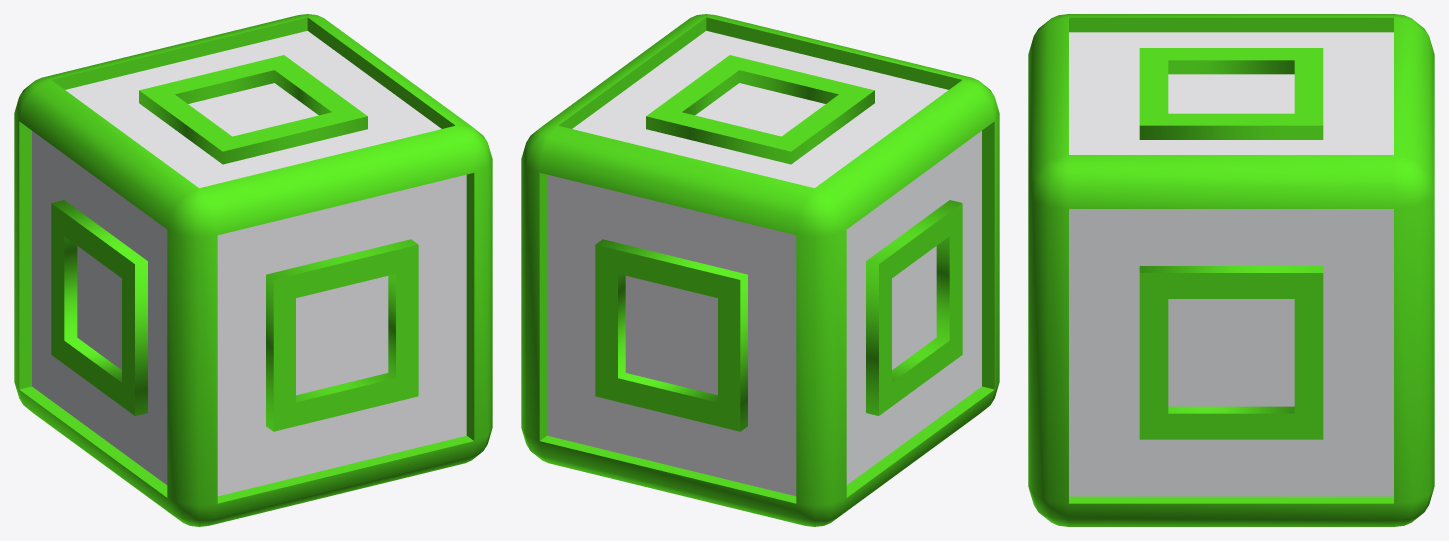
The model's file is SquareCube.fbx.
3 views of the same model, side by side, from view 1: azimuth 30°, elevation 25°; view 2: azimuth 150°, elevation 25°; view 3: azimuth 270°, elevation 25° (orthographic). The views are drawn at different scales.
Visible parts, largest first — view 1: ChamferBox001; view 2: ChamferBox001; view 3: ChamferBox001.
Boxes of the visible parts, left/top/right/bottom form: ChamferBox001: left=14, top=14, right=492, bottom=526; ChamferBox001: left=521, top=14, right=999, bottom=526; ChamferBox001: left=1028, top=14, right=1434, bottom=526.
Size of the model in its own units: 100 by 100 by 100.
1 material, 1 textured.
